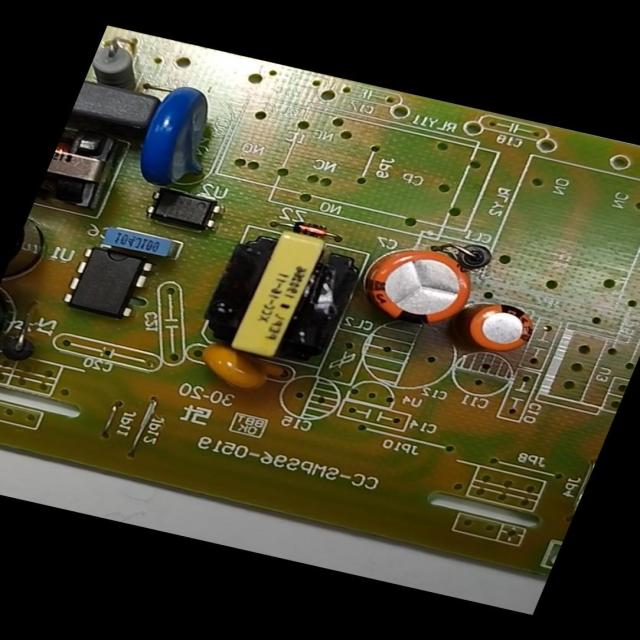Cap1: (344, 230, 498, 346)
Cap2: (440, 287, 553, 366)
Cap3: (0, 206, 71, 297)
Cap4: (0, 272, 47, 371)
MOSFET: (52, 234, 168, 331)
Mov: (119, 76, 245, 199)
Resistor: (83, 33, 164, 98)
Transformer: (185, 215, 382, 375), (33, 120, 138, 220)
